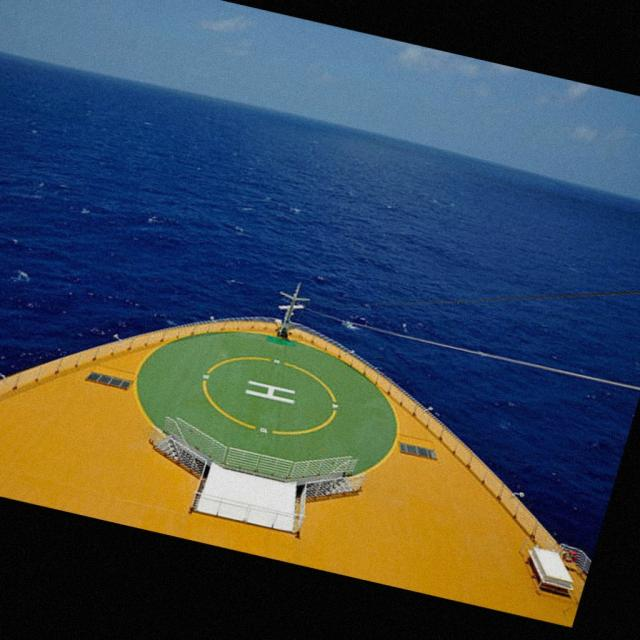helipad: (201, 350, 340, 438)
